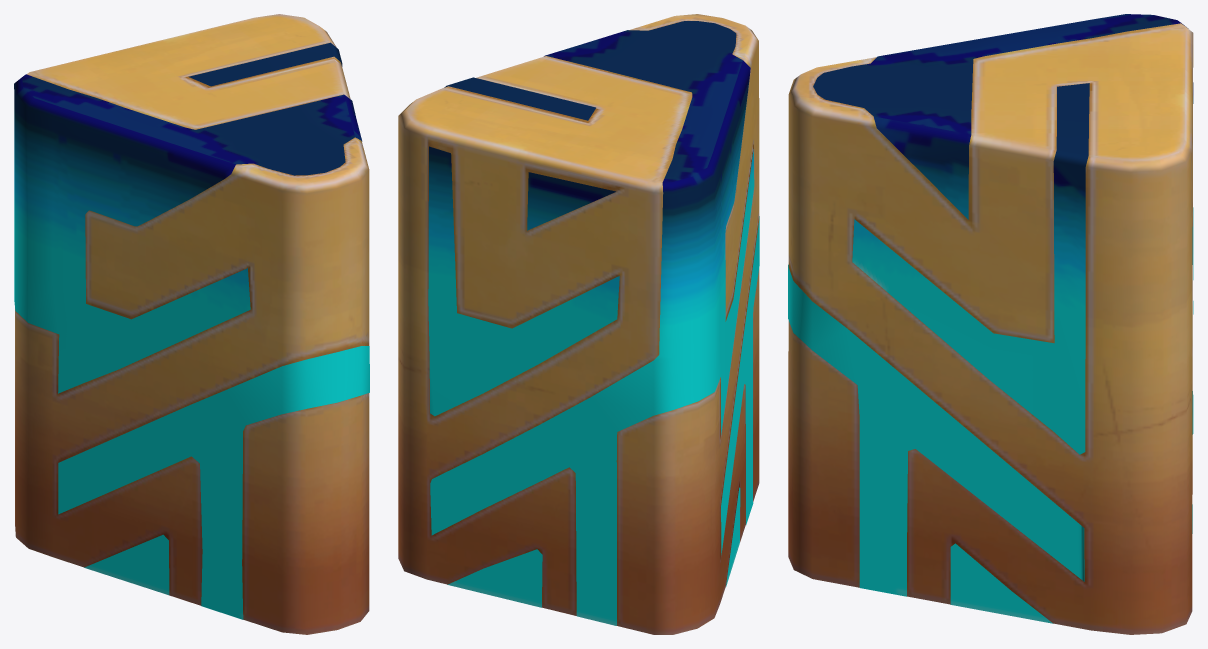
The model's file is rendezvous.glb.
3 renders of one model, left to right at view 1: azimuth 30°, elevation 25°; view 2: azimuth 150°, elevation 25°; view 3: azimuth 270°, elevation 25°, orthographic. The views are drawn at different scales.
Visible parts, largest first — view 1: AB_Deadeye_S0_E_Teleport_Staticmesh.mo; view 2: AB_Deadeye_S0_E_Teleport_Staticmesh.mo; view 3: AB_Deadeye_S0_E_Teleport_Staticmesh.mo.
Boxes of the visible parts, <box> form: AB_Deadeye_S0_E_Teleport_Staticmesh.mo: <box>14,14,369,634</box>; AB_Deadeye_S0_E_Teleport_Staticmesh.mo: <box>398,14,759,634</box>; AB_Deadeye_S0_E_Teleport_Staticmesh.mo: <box>788,14,1193,634</box>.
Bounding box in the file's own units: 0.3148 × 0.4483 × 0.3502.
Materials: 1 (1 with a texture image).
